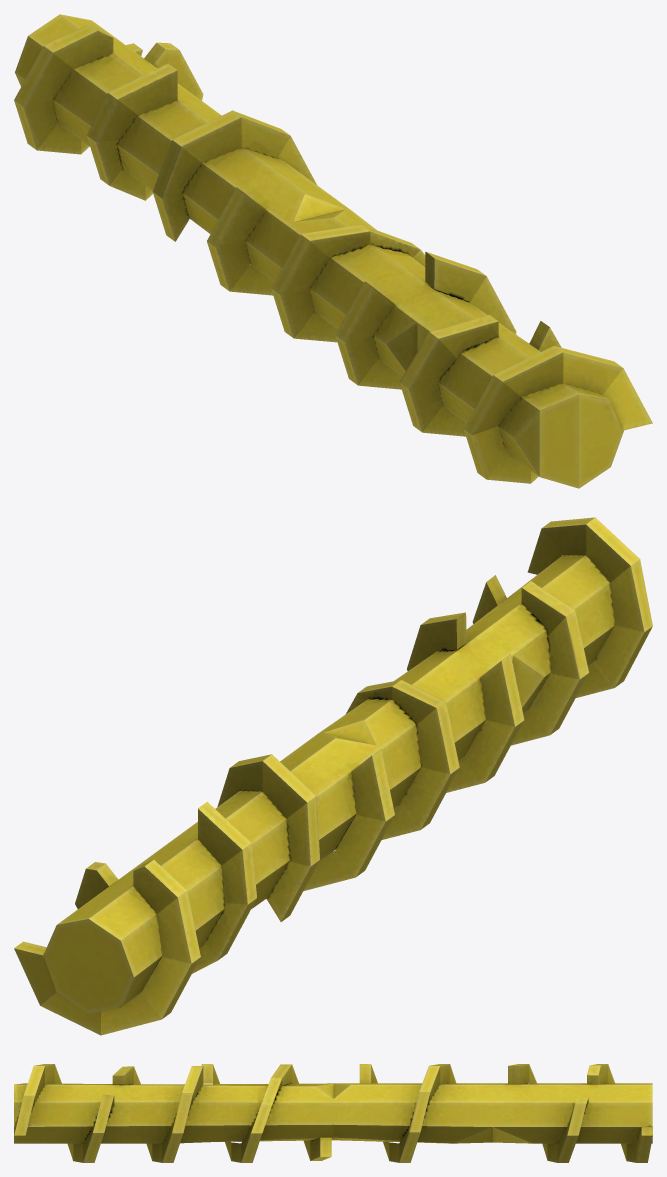
Rendered from GoldThreadedRod_Polished.glb.
3 views of the same model, one above another, from view 1: azimuth 30°, elevation 25°; view 2: azimuth 150°, elevation 25°; view 3: azimuth 270°, elevation 25° (orthographic). The views are drawn at different scales.
Visible parts, largest first — view 1: GoldThreadedRod_Polished; view 2: GoldThreadedRod_Polished; view 3: GoldThreadedRod_Polished.
Boxes of the visible parts, x1=… form: GoldThreadedRod_Polished: x1=14, y1=14, x2=652, y2=488; GoldThreadedRod_Polished: x1=14, y1=517, x2=652, y2=1035; GoldThreadedRod_Polished: x1=14, y1=1064, x2=652, y2=1162.
Bounding box in the file's own units: 0.133 × 0.133 × 0.8084.
1 material, 1 textured.
